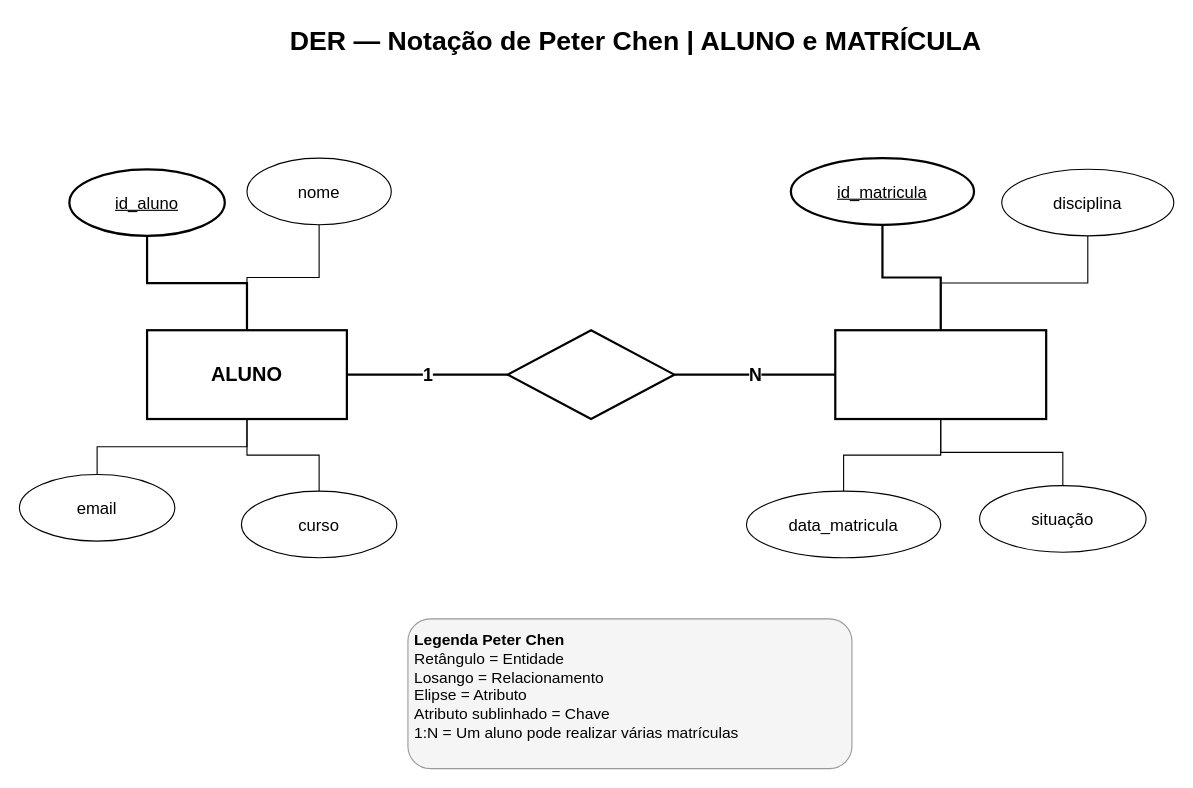
Some shapes in this 1193 by 788 pixel diagram are drawn without their labels. Each missing label, with the centre of its shape:
"MATRÍCULA" belongs at (x=940, y=374).
"REALIZA" belongs at (x=590, y=374).
